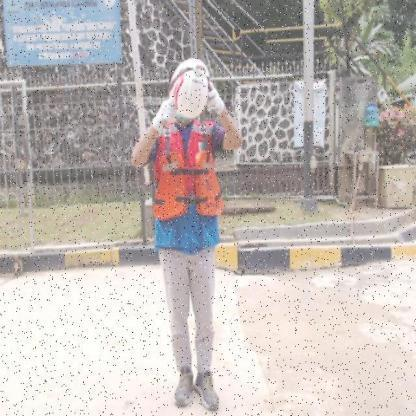boots: (194, 370, 220, 412), (173, 367, 193, 410)
gloves: (152, 99, 176, 132), (208, 81, 224, 116)
helmet: (168, 58, 208, 118)
vest: (153, 148, 223, 223)
